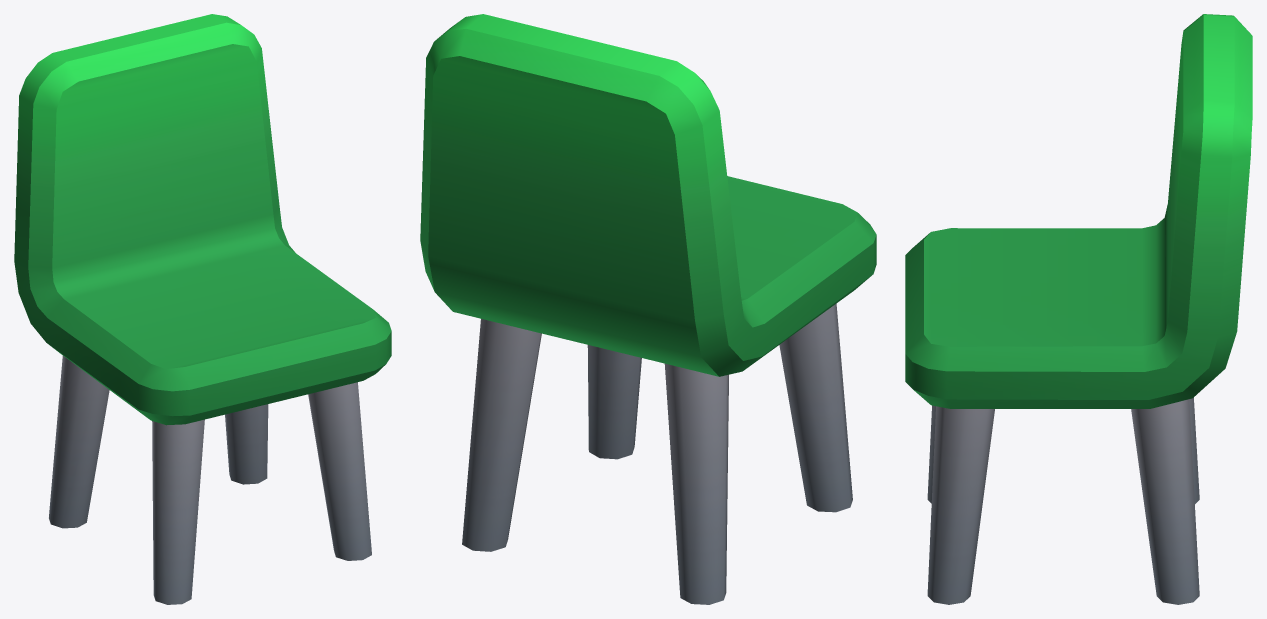
File: Chair_2_A.glb
The picture shows the model from 3 angles, left to right: view 1: azimuth 30°, elevation 25°; view 2: azimuth 150°, elevation 25°; view 3: azimuth 270°, elevation 25°; orthographic projection. The views are drawn at different scales.
Parts seen in each view (by area): view 1: Chair_2_A; view 2: Chair_2_A; view 3: Chair_2_A.
Boxes of the visible parts, <box> form: Chair_2_A: <box>14,14,391,604</box>; Chair_2_A: <box>420,14,876,604</box>; Chair_2_A: <box>905,14,1252,604</box>.
Size of the model in its own units: 0.5407 by 0.9189 by 0.5902.
Materials: 2 (2 with a texture image).
